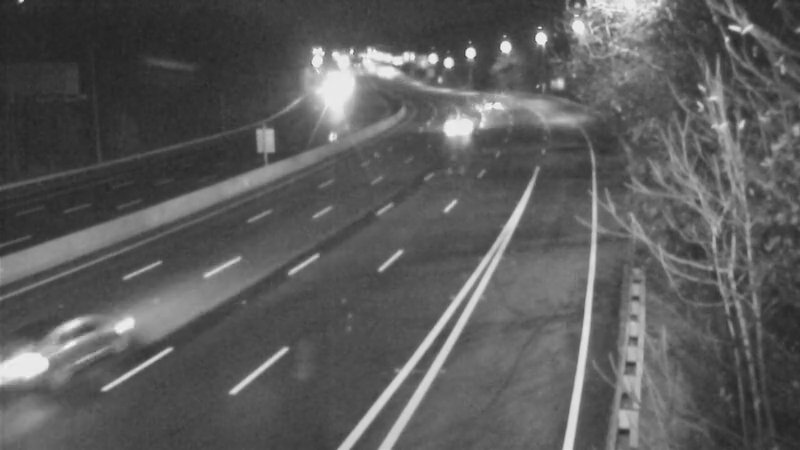vehicle: (14, 302, 124, 412), (461, 80, 511, 130), (437, 99, 487, 149), (308, 67, 358, 117)
